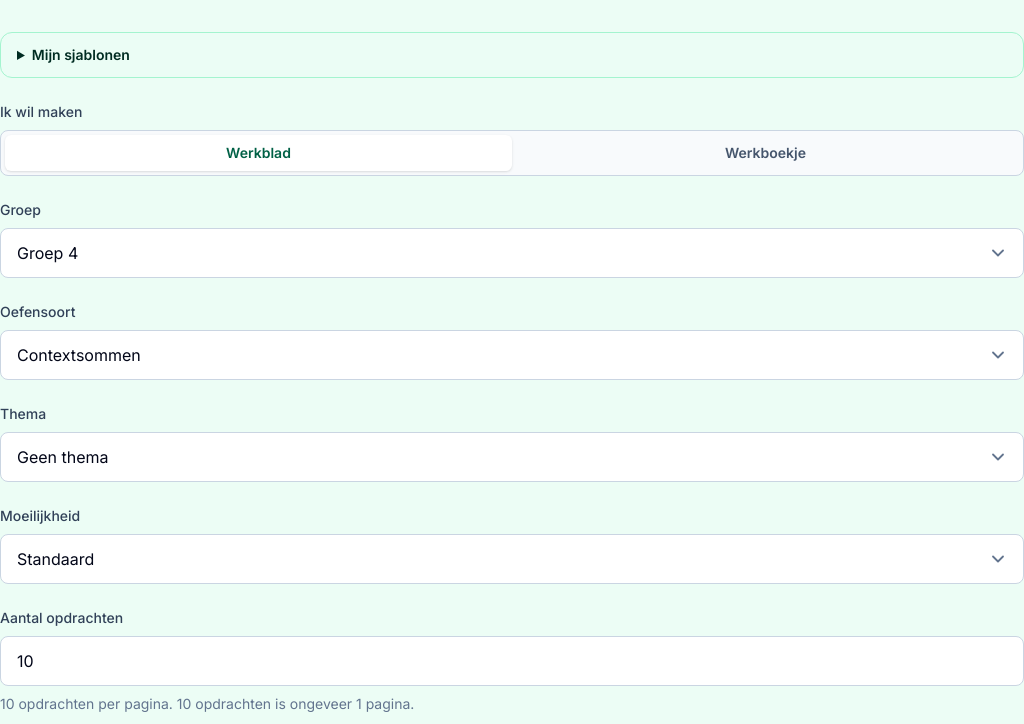
it: WorksheetForm › toont bij de drie MVP-thema’s dat het voorblad een illustratie krijgt
Click the button "Werkboekje": (766, 153) top-left (512, 135), bottom-right (1019, 171)
(page scrolled)
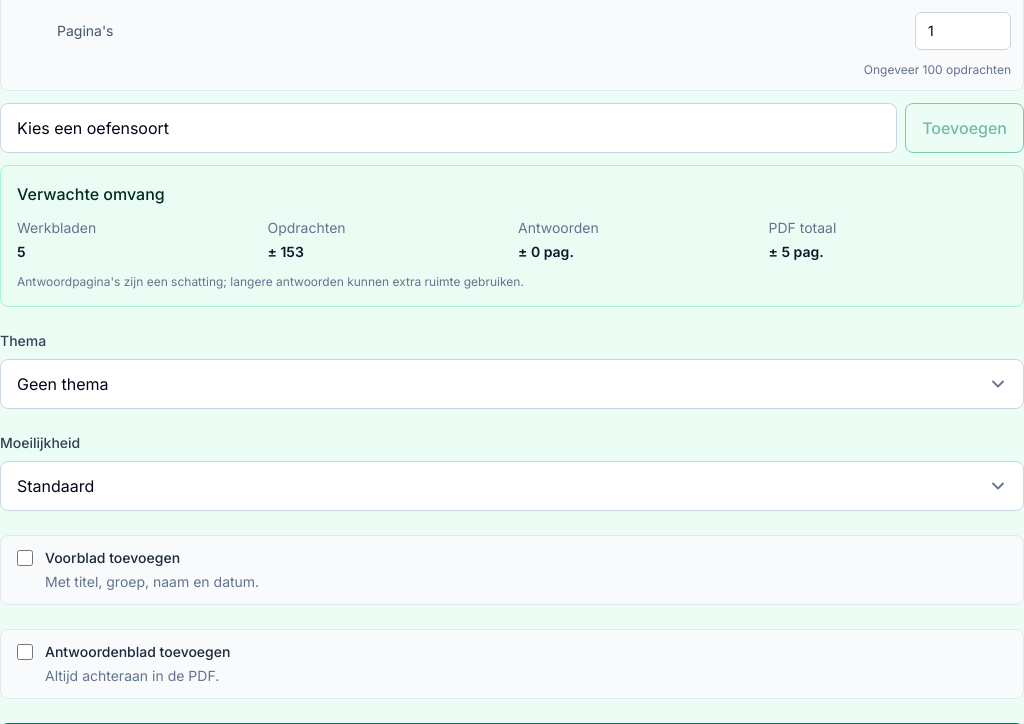
Select "Ruimte" in the dropdown with id "theme": (512, 384) top-left (0, 359), bottom-right (1023, 409)
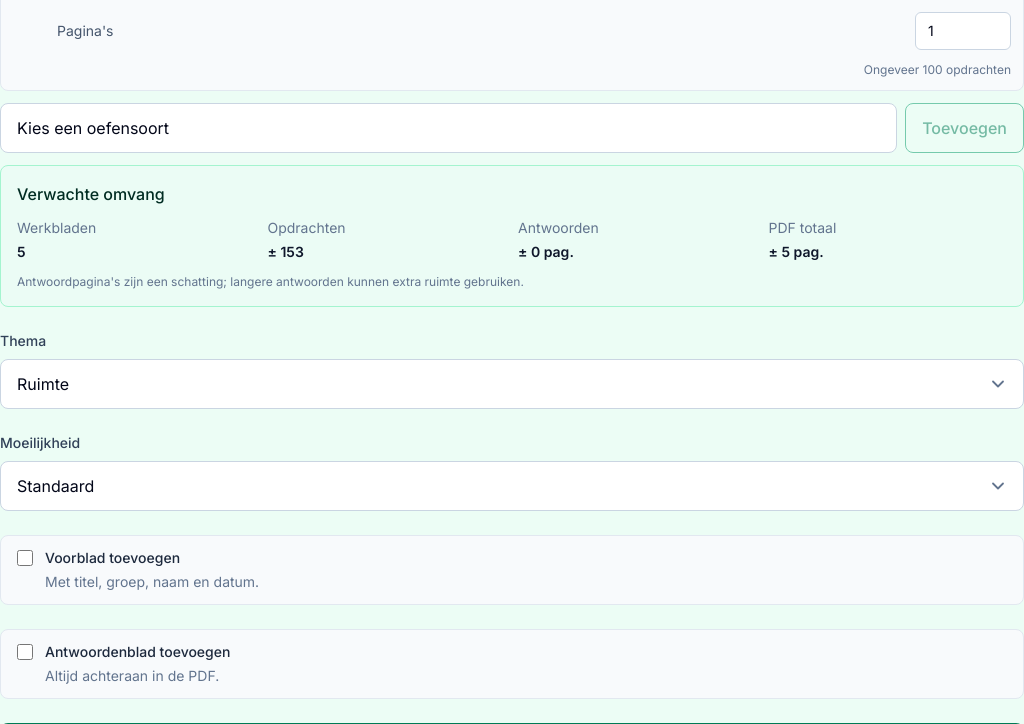
Click the checkbox labelled "Voorblad toevoegen Met titel, groep, naam en datum.": (25, 558) top-left (17, 550), bottom-right (33, 566)
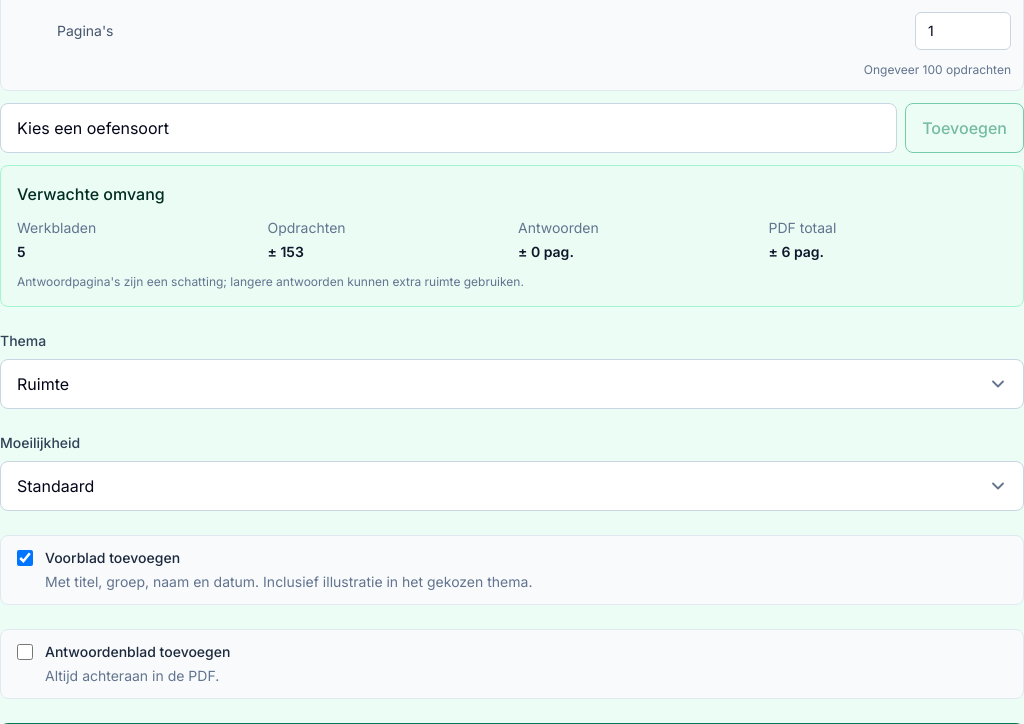
expect the text "Inclusief illustratie in het gekozen thema." is shown: met, box top-left (263, 573), bottom-right (532, 590)
Select "Vlinders" in the dropdown with id "theme": (512, 384) top-left (0, 359), bottom-right (1023, 409)
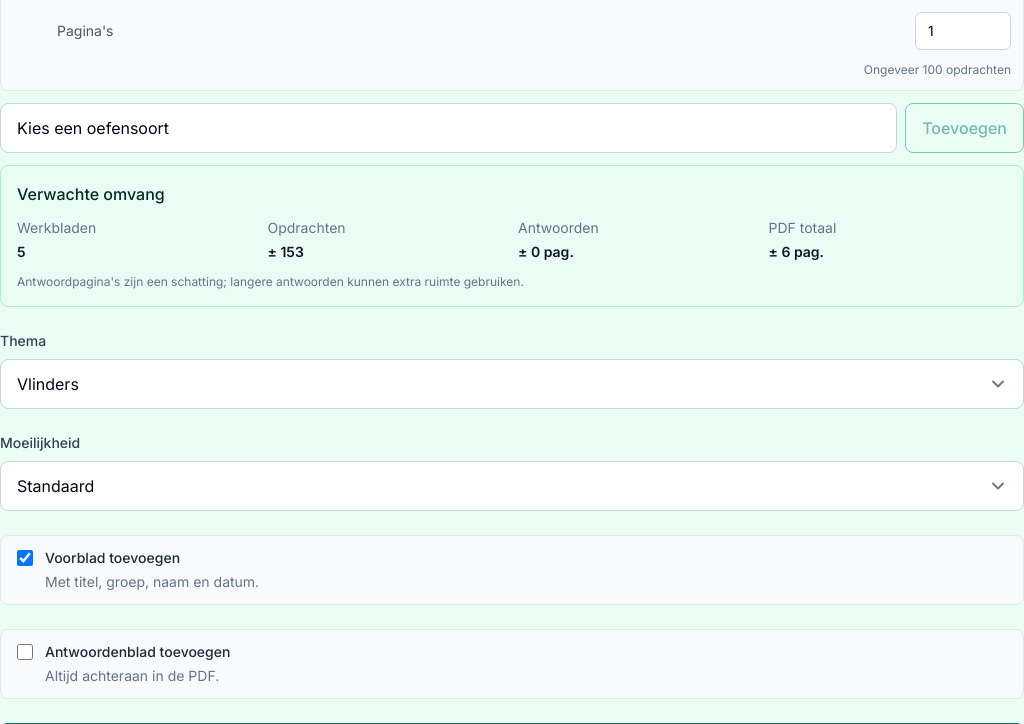
expect the text "Inclusief illustratie in het gekozen thema." is gone: met
